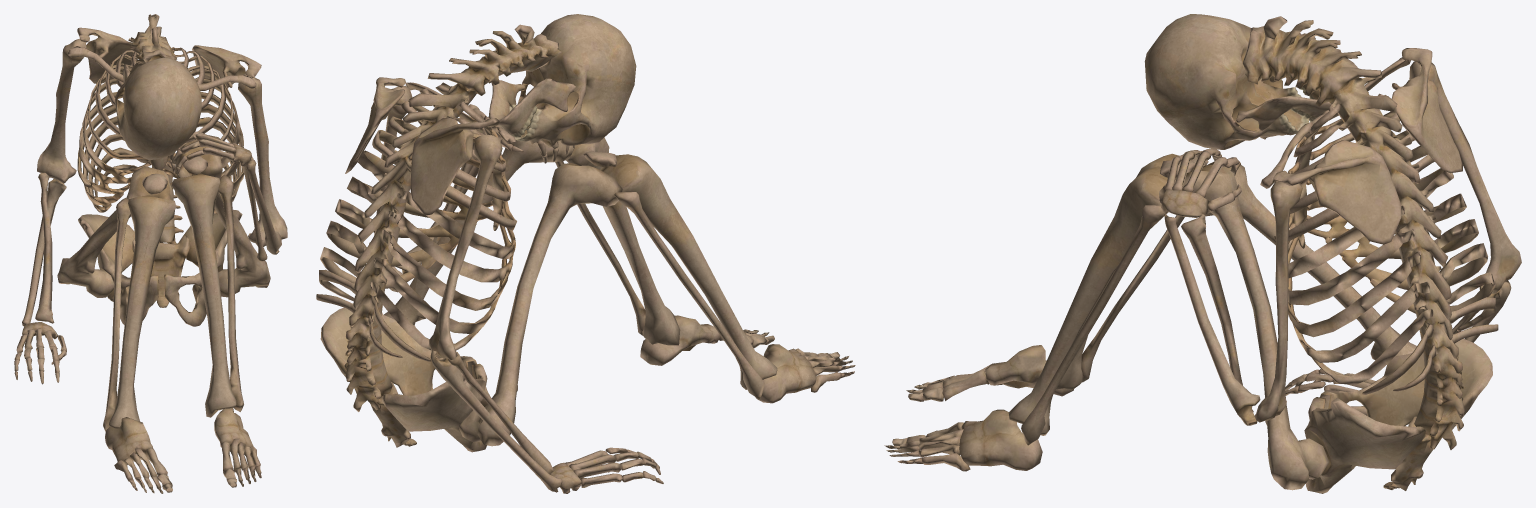
Rendered from skeleton.glb.
3 renders of one model, left to right at view 1: azimuth 30°, elevation 25°; view 2: azimuth 150°, elevation 25°; view 3: azimuth 270°, elevation 25°, orthographic. The views are drawn at different scales.
Visible parts, largest first — view 1: skeleton1; view 2: skeleton1; view 3: skeleton1.
Boxes of the visible parts, box(x1,y1,x2,y2) form: skeleton1: box(14, 14, 287, 493); skeleton1: box(316, 14, 855, 493); skeleton1: box(884, 14, 1521, 493).
Bounding box in the file's own units: 0.0265 × 0.032 × 0.0394.
Materials: 1 (1 with a texture image).
